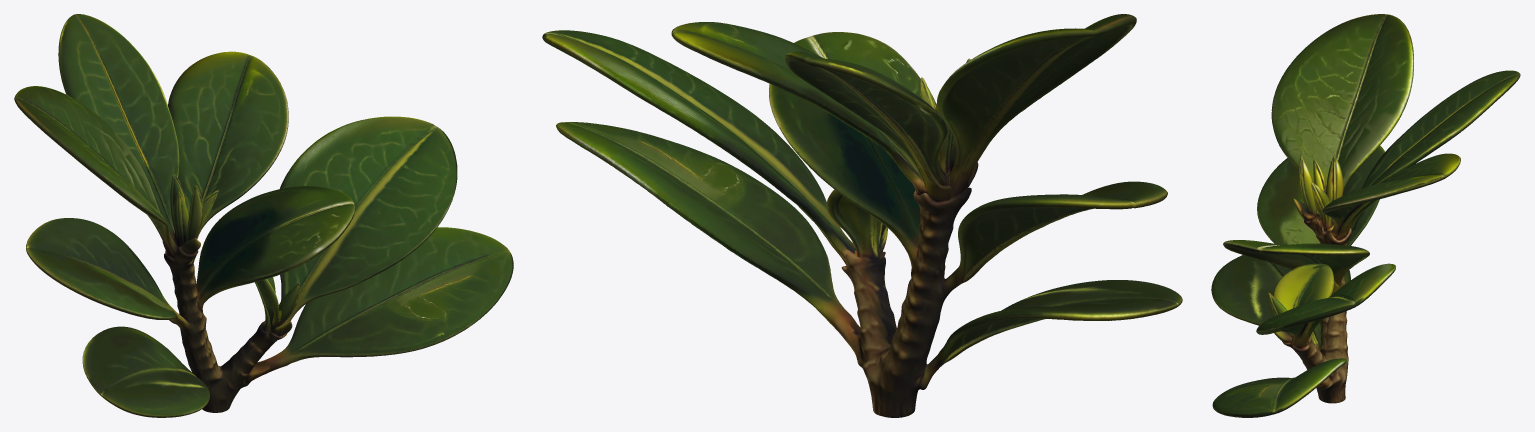
File: leaf.glb
3 views of the same model, side by side, from view 1: azimuth 30°, elevation 25°; view 2: azimuth 150°, elevation 25°; view 3: azimuth 270°, elevation 25° (orthographic). The views are drawn at different scales.
Parts seen in each view (by area): view 1: part_0; view 2: part_0; view 3: part_0.
Part boxes in pixels (x1,y1,x2,y2): part_0: (14, 14, 513, 417); part_0: (542, 14, 1182, 417); part_0: (1211, 14, 1520, 417).
Size of the model in its own units: 1 by 0.7059 by 0.6442.
Materials: 1 (1 with a texture image).
